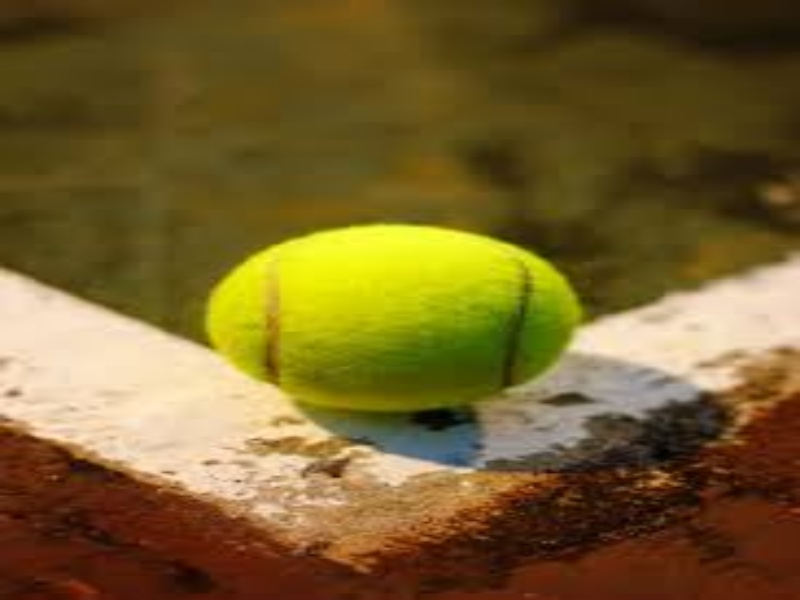tennis ball: (209, 216, 603, 422)
